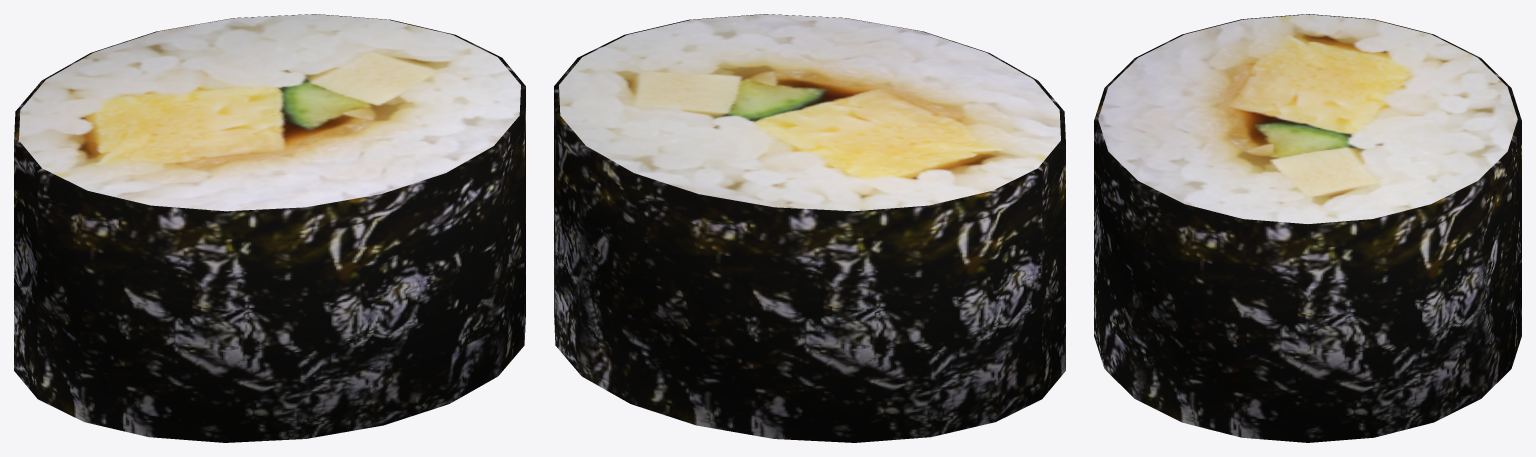
Rendered from hutomaki.fbx.
3 renders of one model, left to right at view 1: azimuth 30°, elevation 25°; view 2: azimuth 150°, elevation 25°; view 3: azimuth 270°, elevation 25°, orthographic. The views are drawn at different scales.
Parts seen in each view (by area): view 1: hutomaki; view 2: hutomaki; view 3: hutomaki.
Boxes of the visible parts, x1,y1,x2,y2 form: hutomaki: (14, 14, 525, 442); hutomaki: (554, 14, 1065, 442); hutomaki: (1094, 14, 1521, 442).
Bounding box in the file's own units: 6 × 2.86 × 5.08.
